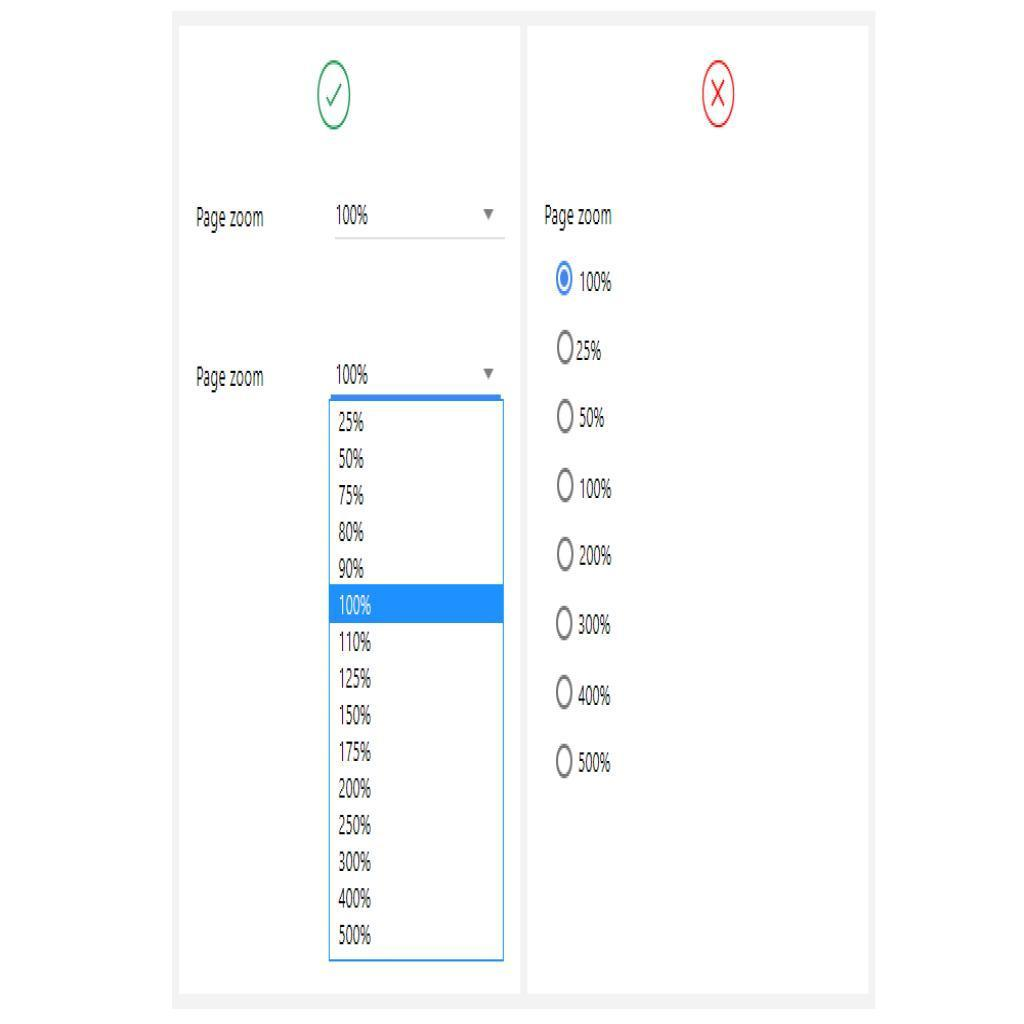button: (330, 584, 505, 625)
icon: (480, 364, 501, 387), (481, 204, 500, 225)
radio: (556, 328, 578, 368), (555, 466, 577, 506), (556, 259, 577, 299), (555, 741, 576, 780), (555, 671, 574, 713), (557, 536, 576, 575), (557, 397, 575, 437), (556, 606, 574, 643)
